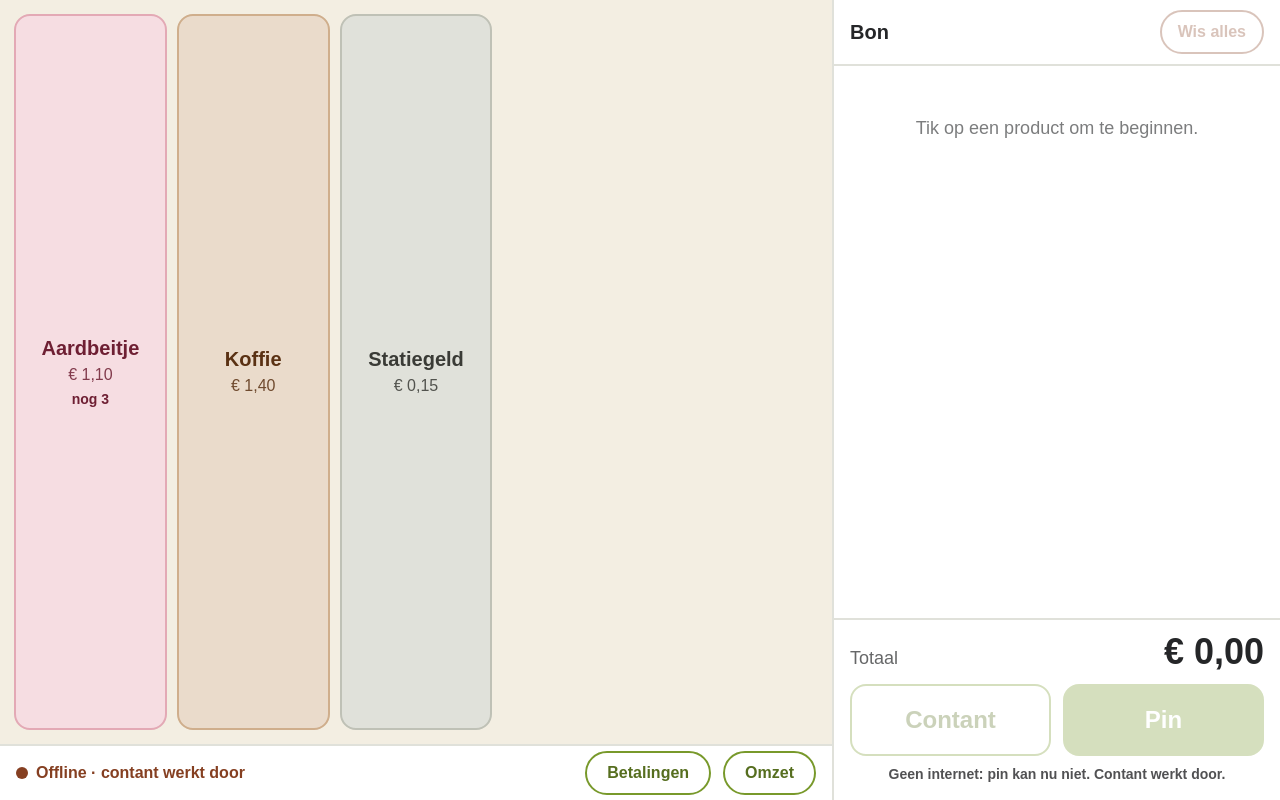
shows what is left on a tile and counts down with every sale, also offline
Expected: the text "nog 3" is shown, [72, 388, 109, 408]
Step 1. Click the button "Aardbeitje € 1,10 nog 3" → coordinates (90, 372), box [14, 14, 167, 730]
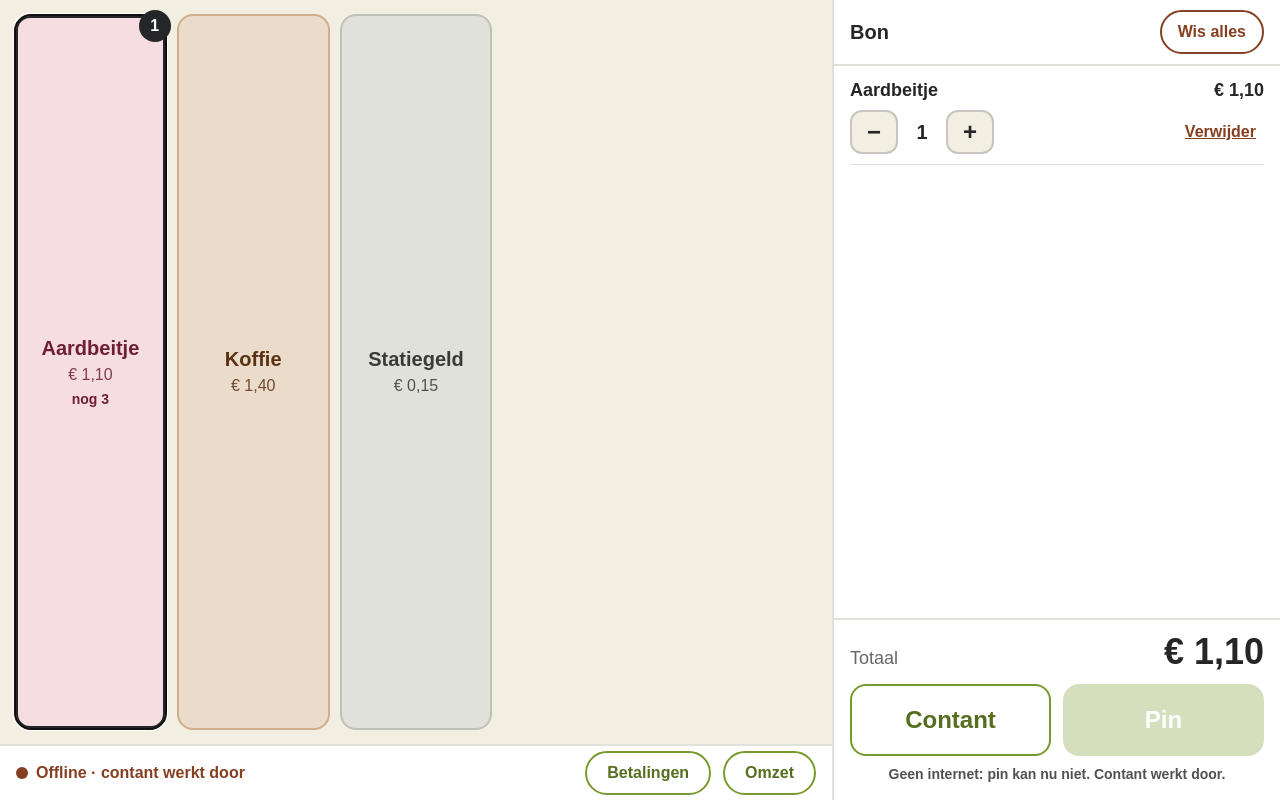
Step 2. Click the button "Contant" → coordinates (950, 720), box [850, 684, 1051, 756]
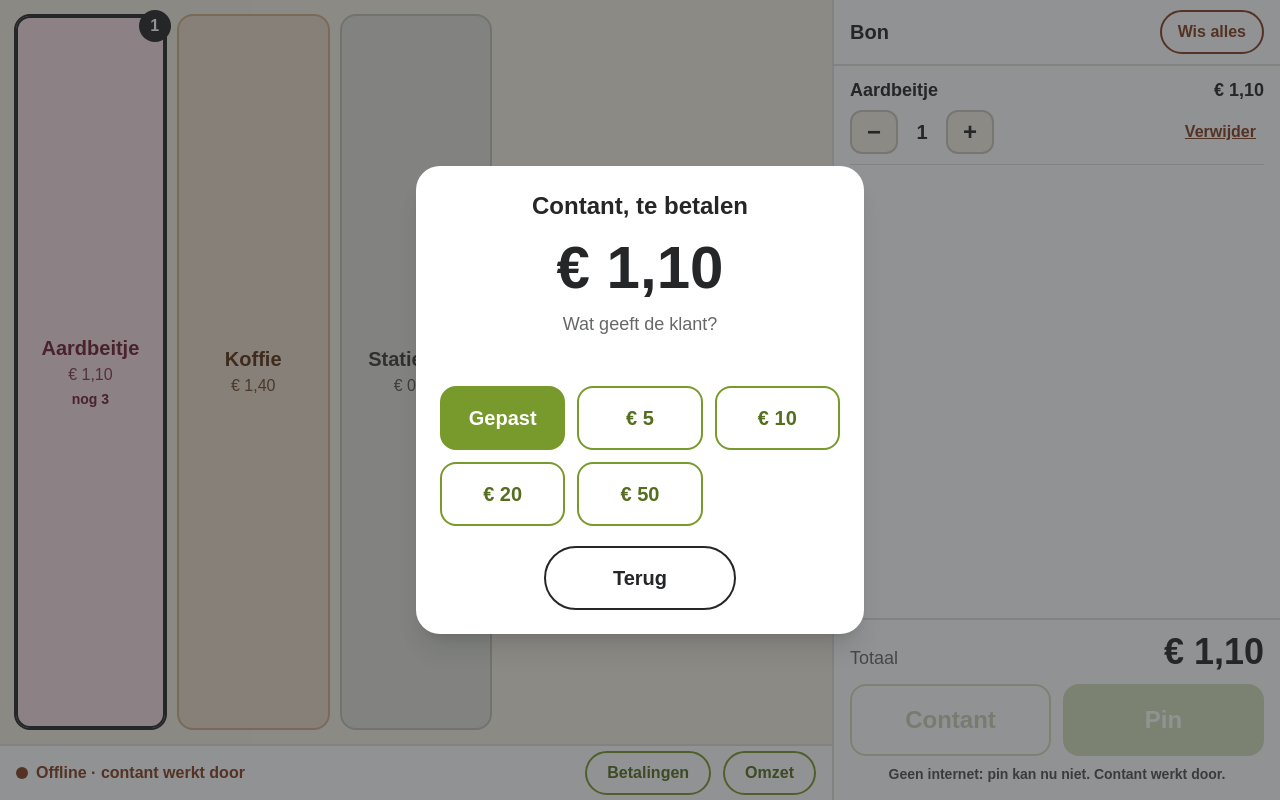
Step 3. Click the button "Gepast" → coordinates (503, 418), box [440, 386, 565, 450]
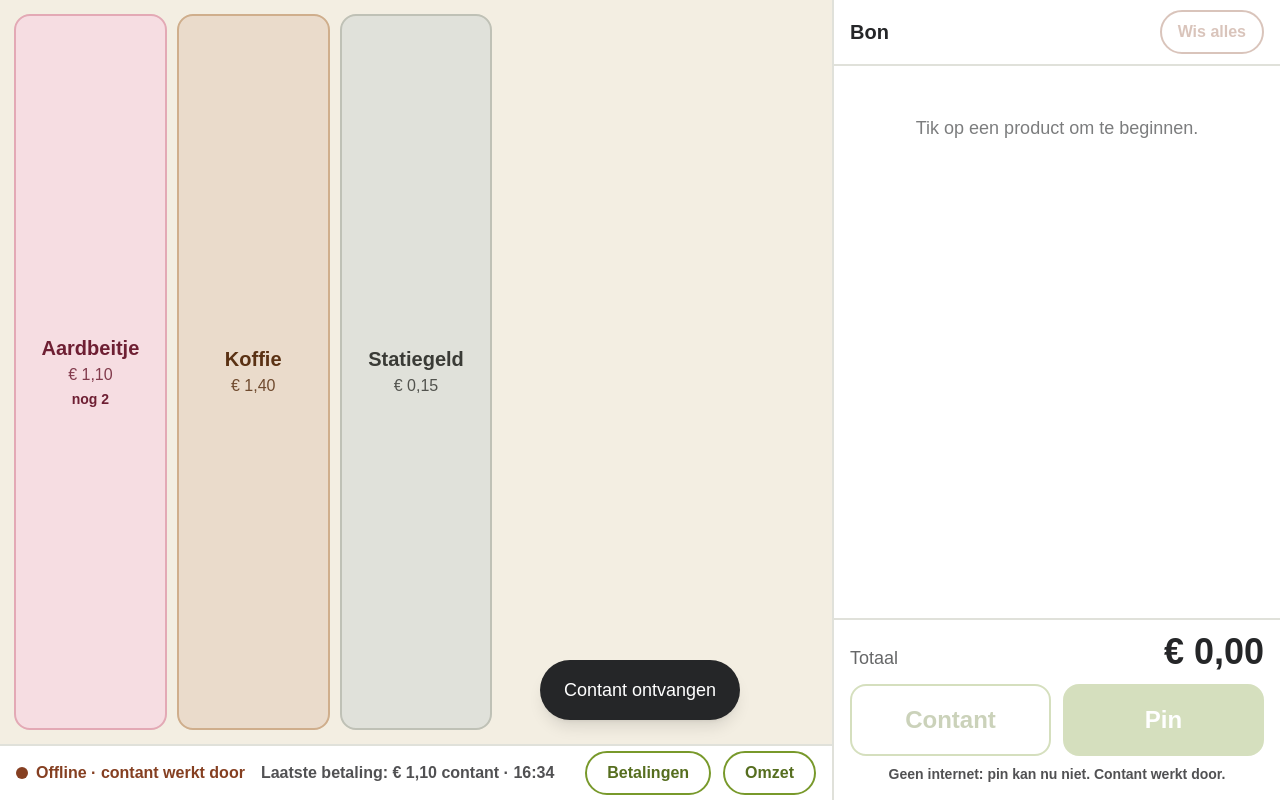
Expected: the text "nog 2" is shown, [72, 388, 109, 408]
